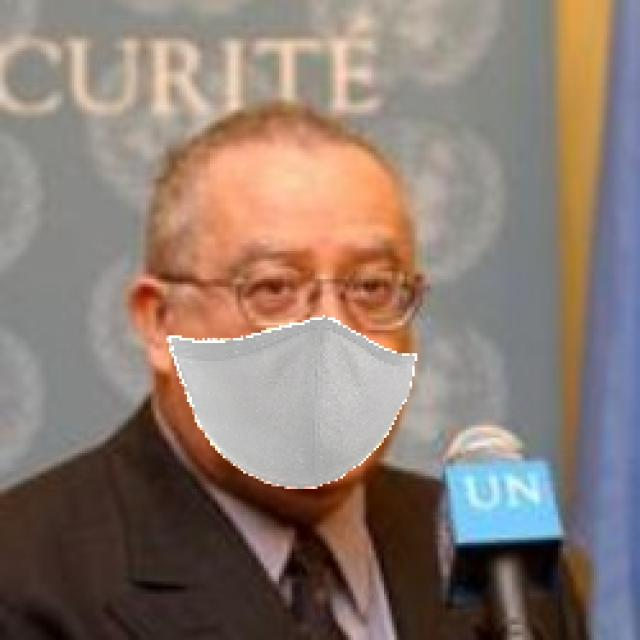mask: (162, 314, 426, 512)
